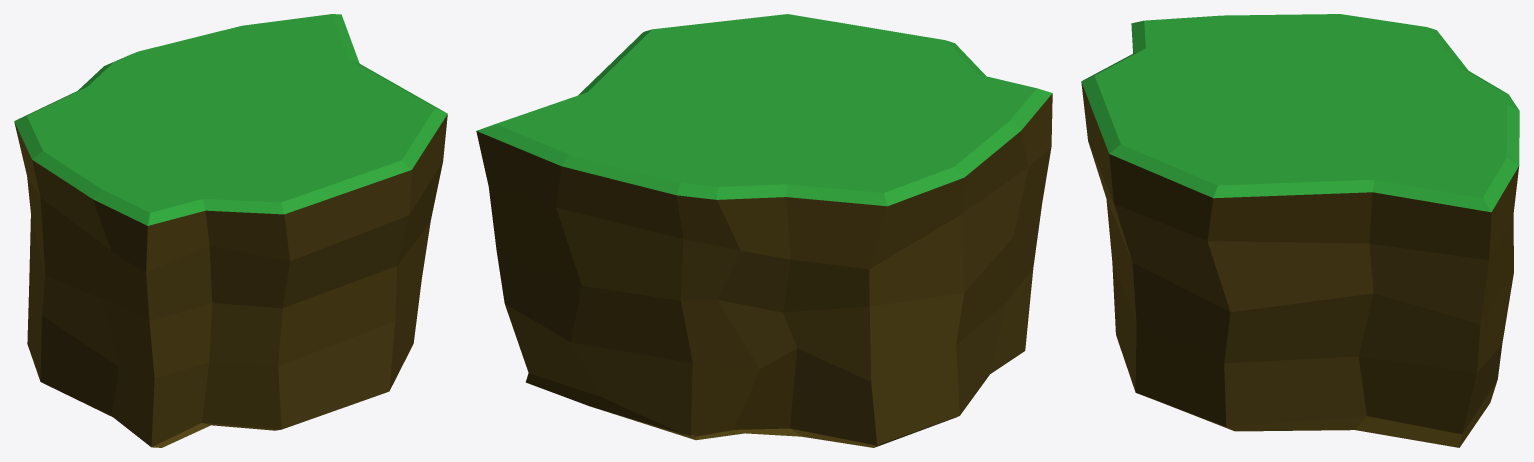
Rendered from Cliff.fbx.
3 renders of one model, left to right at view 1: azimuth 30°, elevation 25°; view 2: azimuth 150°, elevation 25°; view 3: azimuth 270°, elevation 25°, orthographic. The views are drawn at different scales.
Parts seen in each view (by area): view 1: Cliff.001, Cliff; view 2: Cliff.001, Cliff; view 3: Cliff.001, Cliff.
Part boxes in pixels (x1=…): Cliff.001: x1=14, y1=114, x2=447, y2=447; Cliff: x1=14, y1=14, x2=447, y2=225; Cliff.001: x1=476, y1=93, x2=1052, y2=447; Cliff: x1=476, y1=14, x2=1052, y2=206; Cliff.001: x1=1081, y1=36, x2=1519, y2=447; Cliff: x1=1081, y1=14, x2=1519, y2=212.
Bounding box in the file's own units: 200 × 123 × 187.
